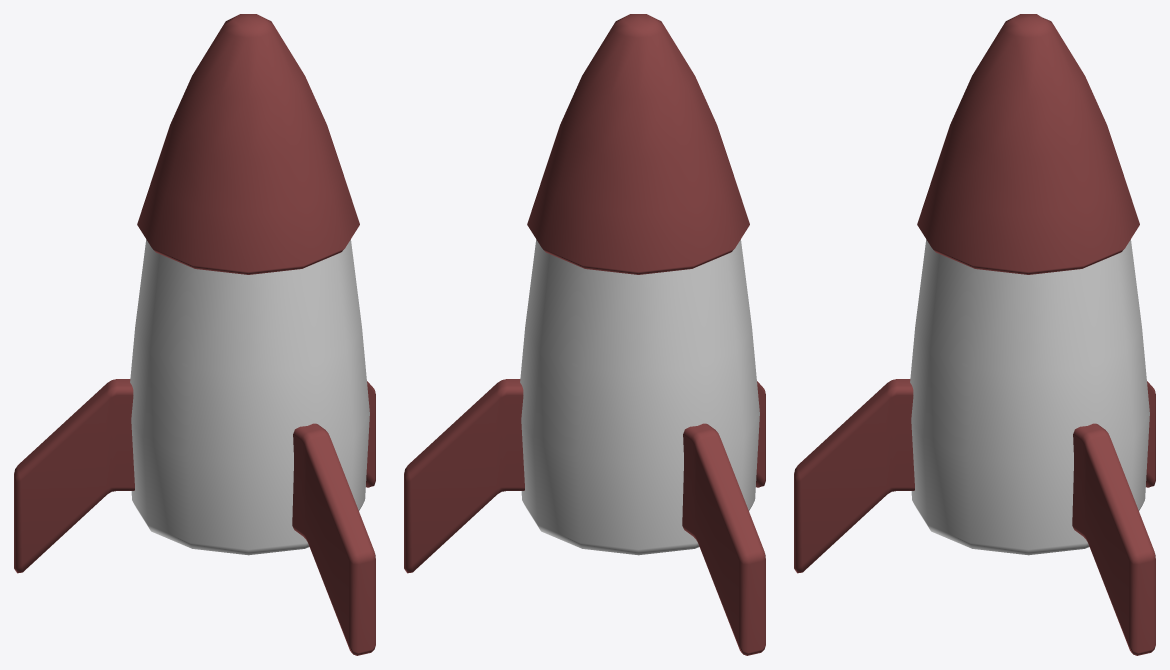
The model's file is rocket.fbx.
The picture shows the model from 3 angles, left to right: view 1: azimuth 30°, elevation 25°; view 2: azimuth 150°, elevation 25°; view 3: azimuth 270°, elevation 25°; orthographic projection.
Visible parts, largest first — view 1: rocket; view 2: rocket; view 3: rocket.
Boxes of the visible parts, x1=… form: rocket: x1=14, y1=14, x2=375, y2=655; rocket: x1=404, y1=14, x2=765, y2=655; rocket: x1=794, y1=14, x2=1155, y2=655.
Bounding box in the file's own units: 3.58 × 5.26 × 3.12.
